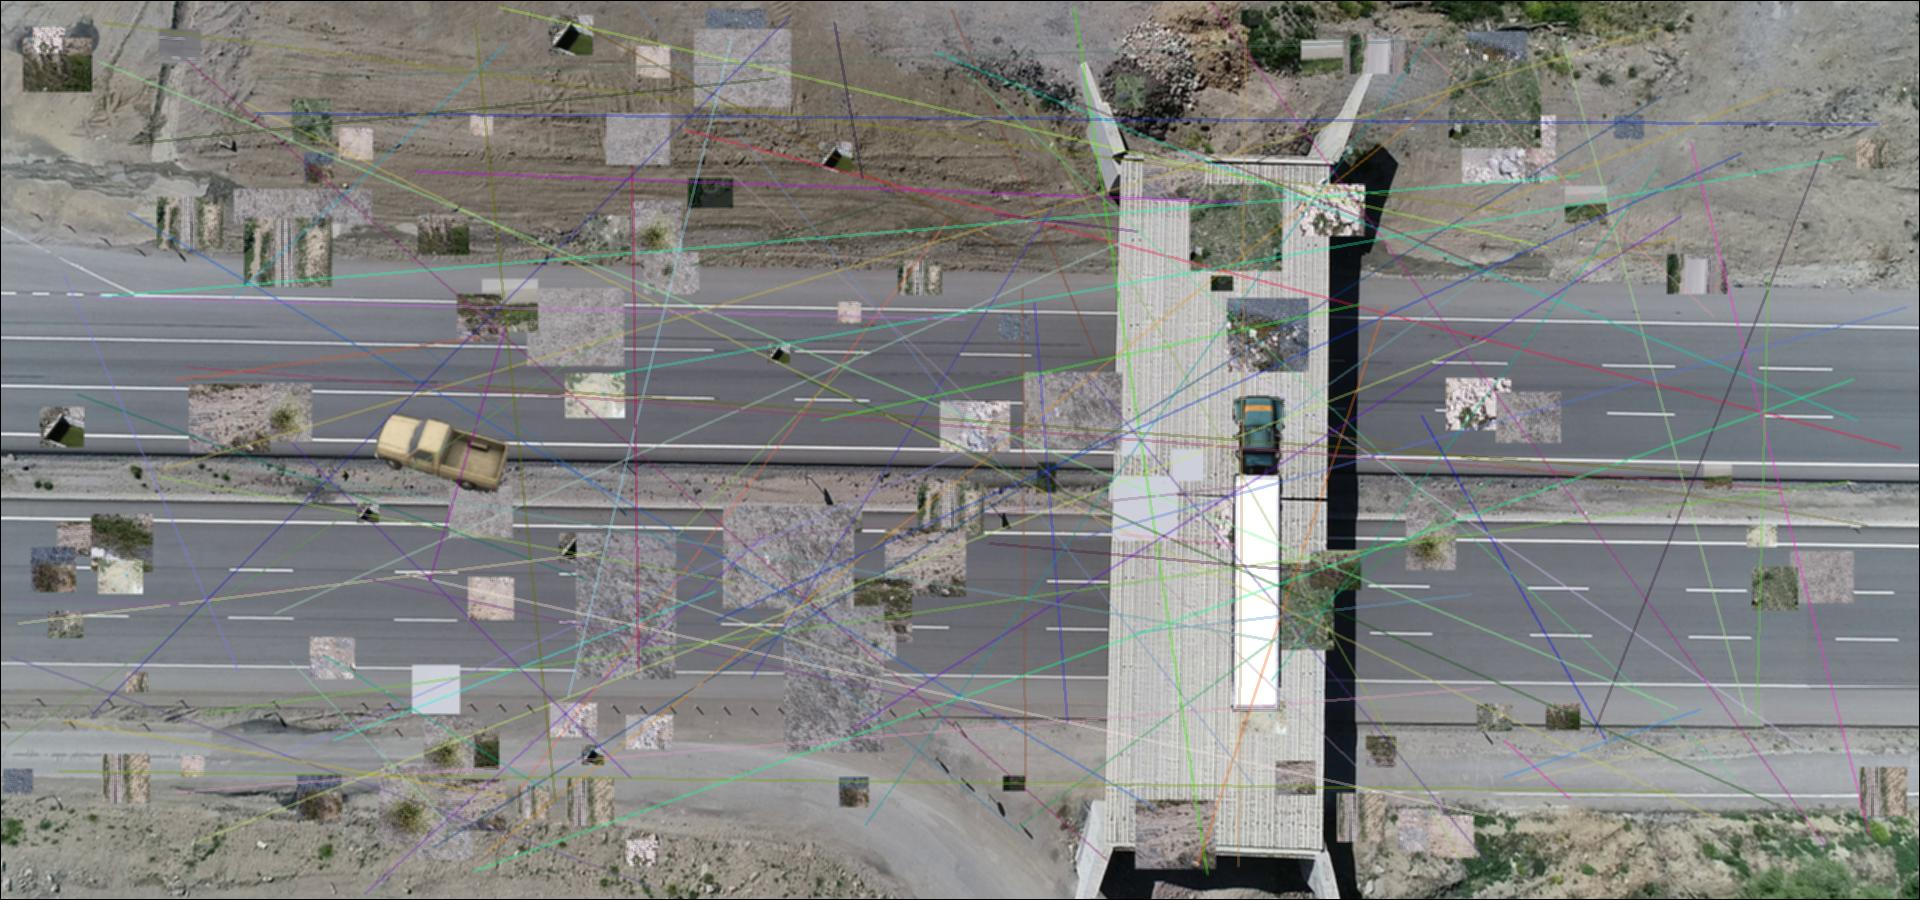arac: (1220, 393, 1297, 715), (375, 410, 509, 496)
